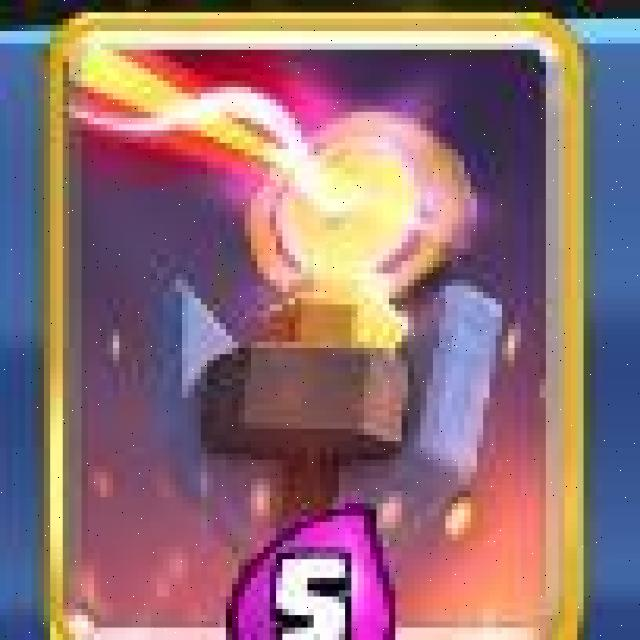Inferno_Tower: (49, 12, 585, 640)
